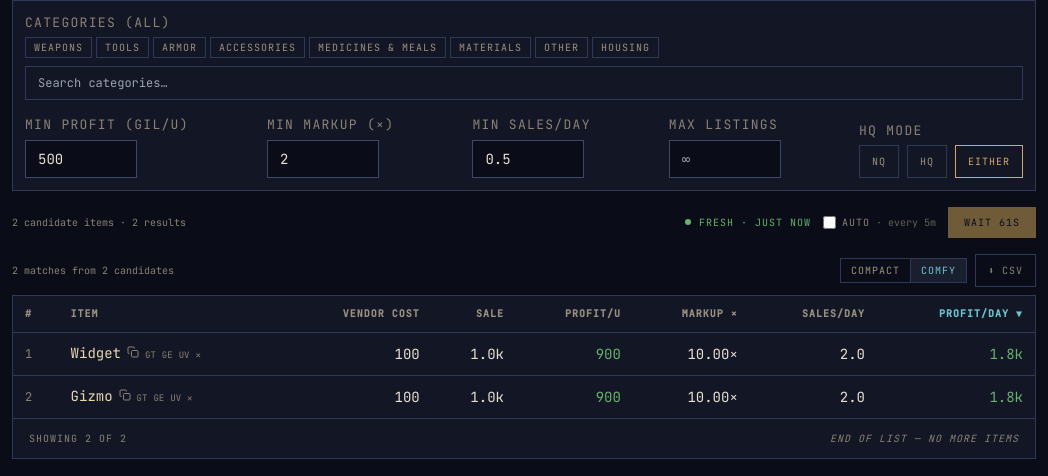
Test: VendorFlipView › applies a group chip live without refetching
Expected: the link "Widget" is shown, 71,342 -> 121,362
Click the button "Housing" at point(626, 47), box 592,36 -> 659,58
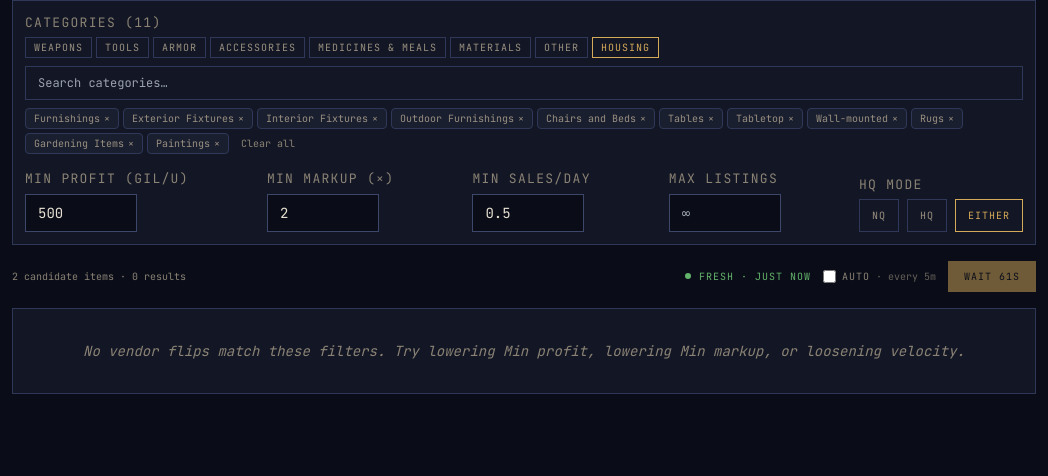
Now the link "Widget" is gone
